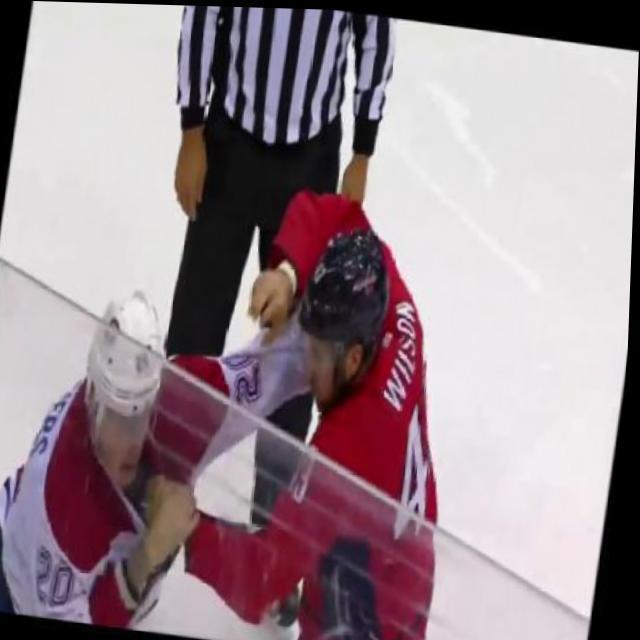fight: (0, 150, 501, 640)
